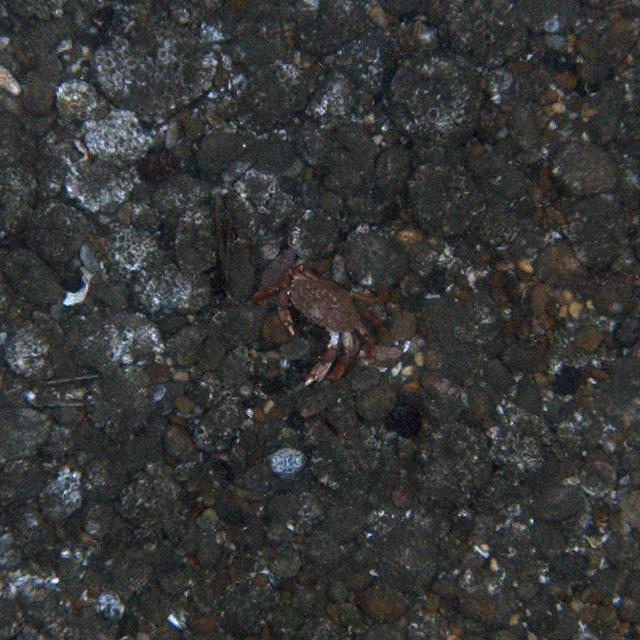crab: (267, 257, 390, 388)
